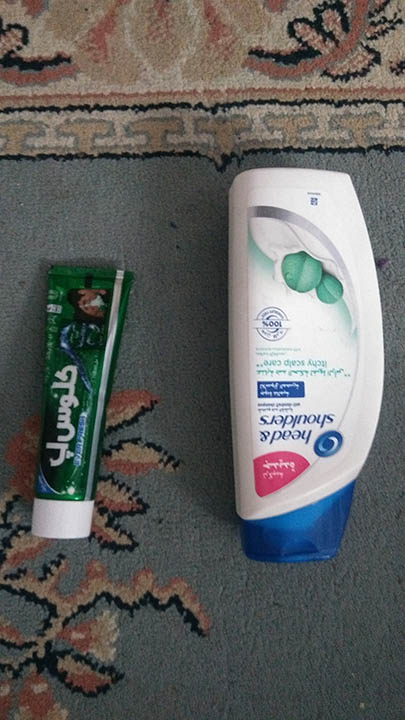Toothpaste-Closeup 3.04$: (35, 260, 120, 540)
shampoo-green 4.5$: (222, 163, 389, 566)
